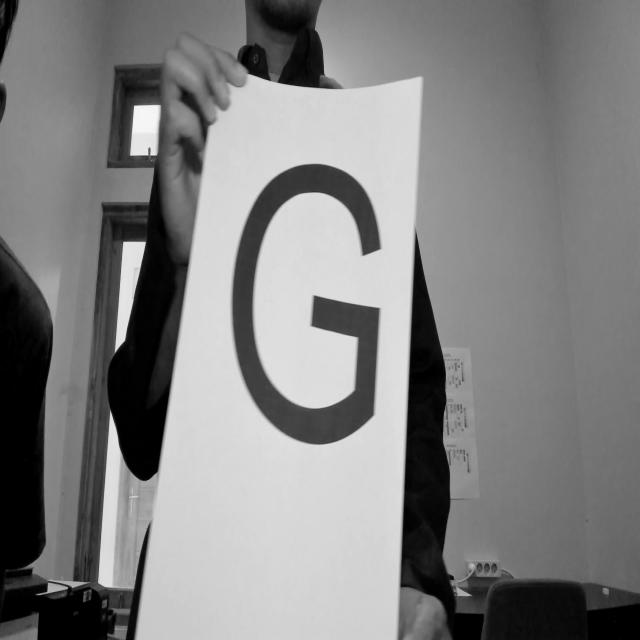g: (212, 140, 393, 480)
